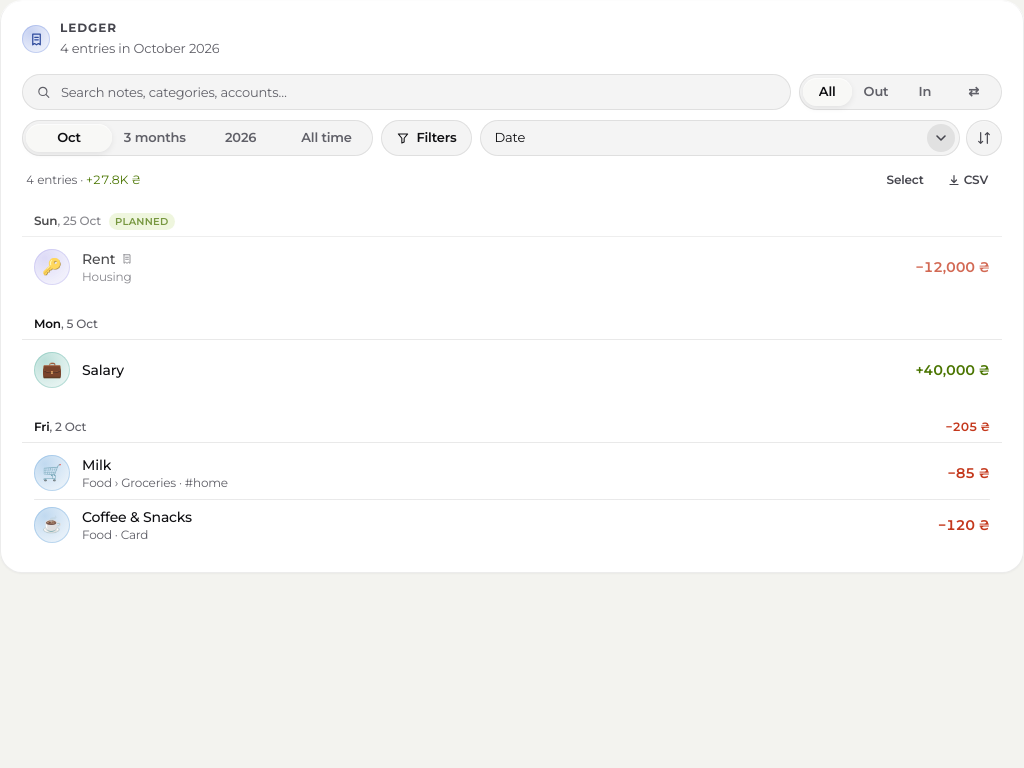
Test case: LedgerCard › finds entries by their note and resets the search
The width and height of the screenshot is (1024, 768).
In the search field with placeholder "Search notes, categories, accounts…": (406, 92) [22, 74, 791, 110], type "milk"
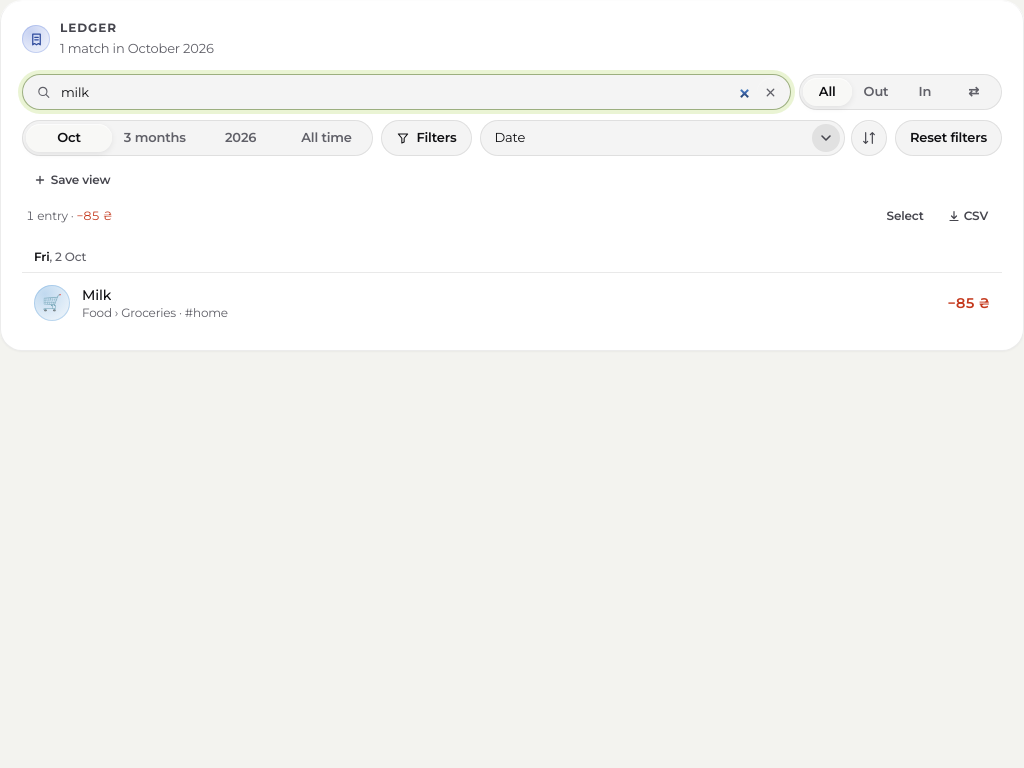
Expected: the text "1 match in October 2026" is shown, [60, 39, 214, 58]
Click the button "Reset filters": click(948, 138) [895, 120, 1002, 156]
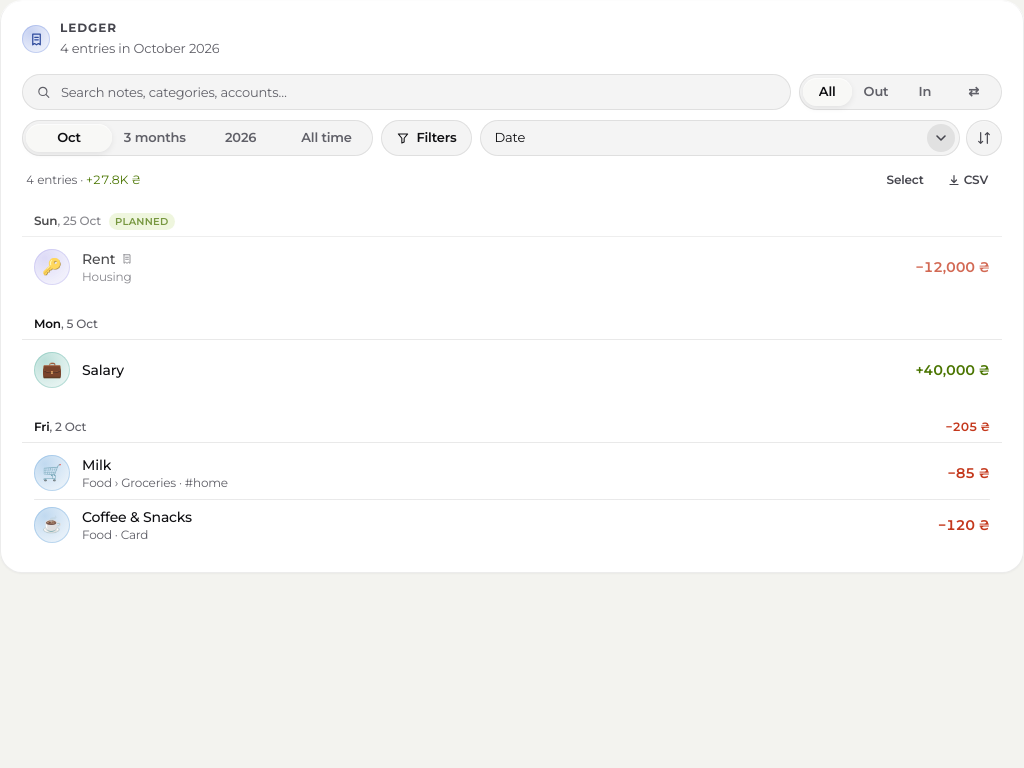
Expected: the text "4 entries in October 2026" is shown, [60, 39, 219, 58]
